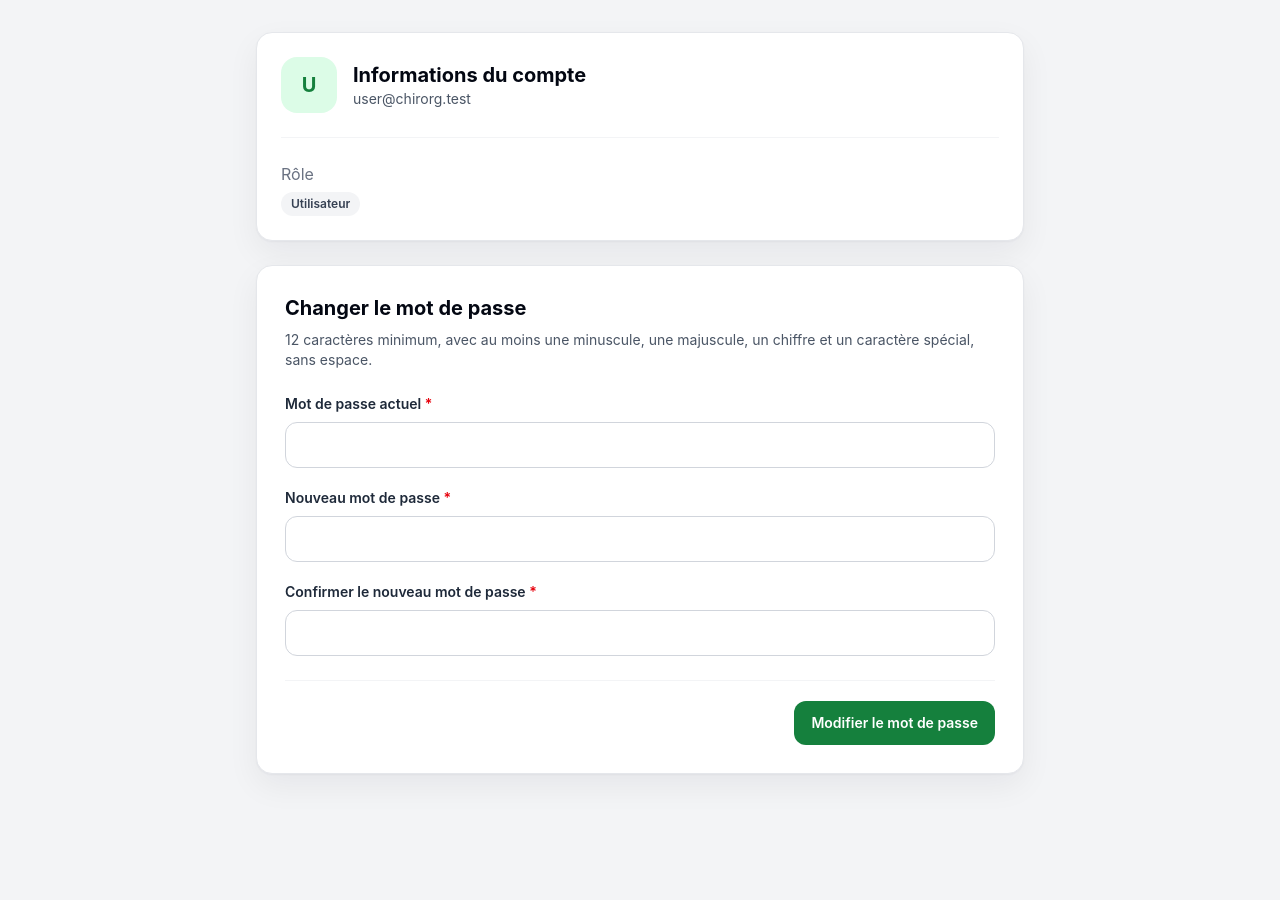
Test: AccountView › hides the user id and changes a password matching the policy
The width and height of the screenshot is (1280, 900).
Check: the text "Identifiant" is not shown
Type "password" into the password field labelled "Mot de passe actuel *" at (640, 445), box [285, 422, 995, 468]
Type "trop-faible" into the password field labelled "Nouveau mot de passe *" at (640, 539), box [285, 516, 995, 562]
Type "trop-faible" into the password field labelled "Confirmer le nouveau mot de passe *" at (640, 633), box [285, 610, 995, 656]
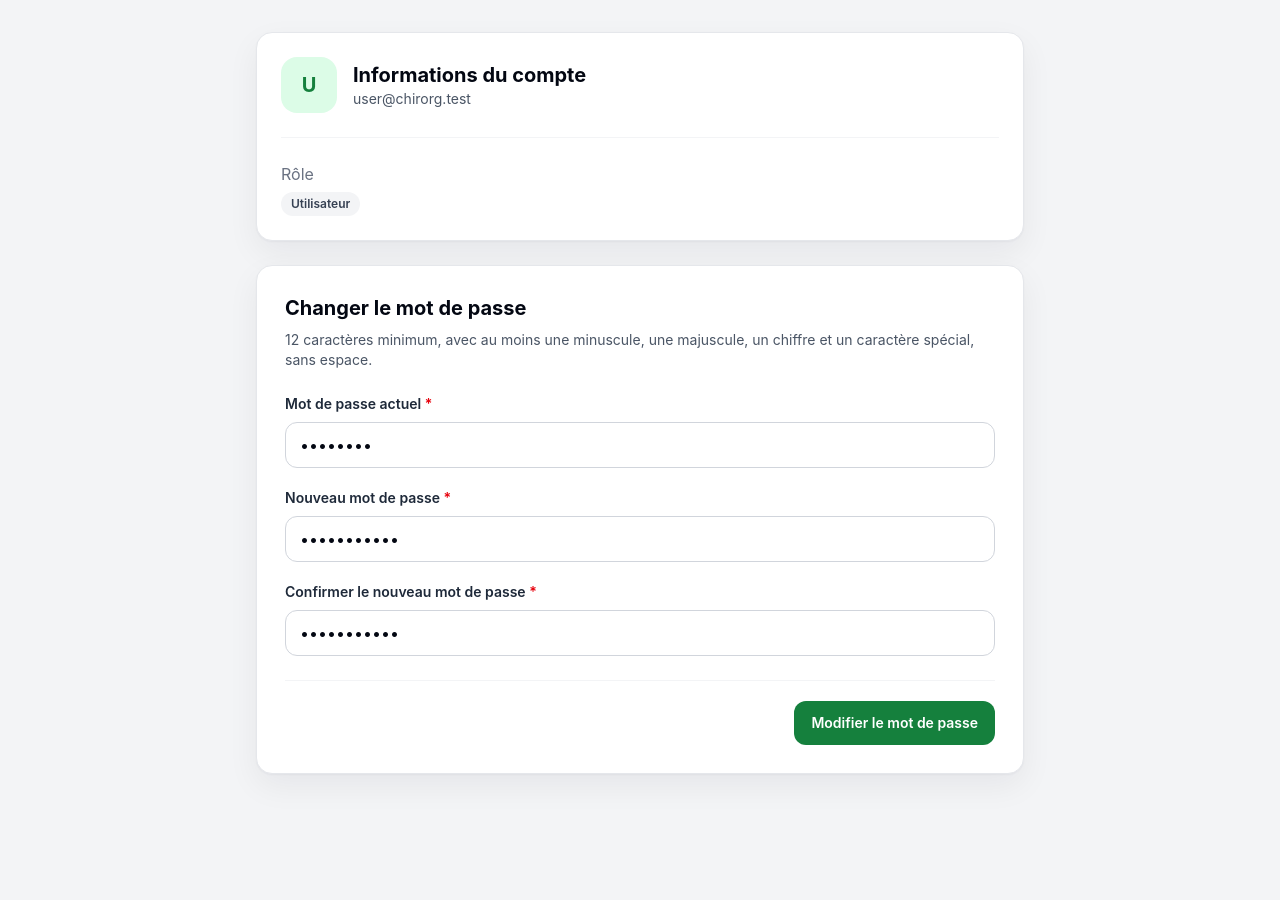
Submit the form, box [256, 265, 1024, 774]
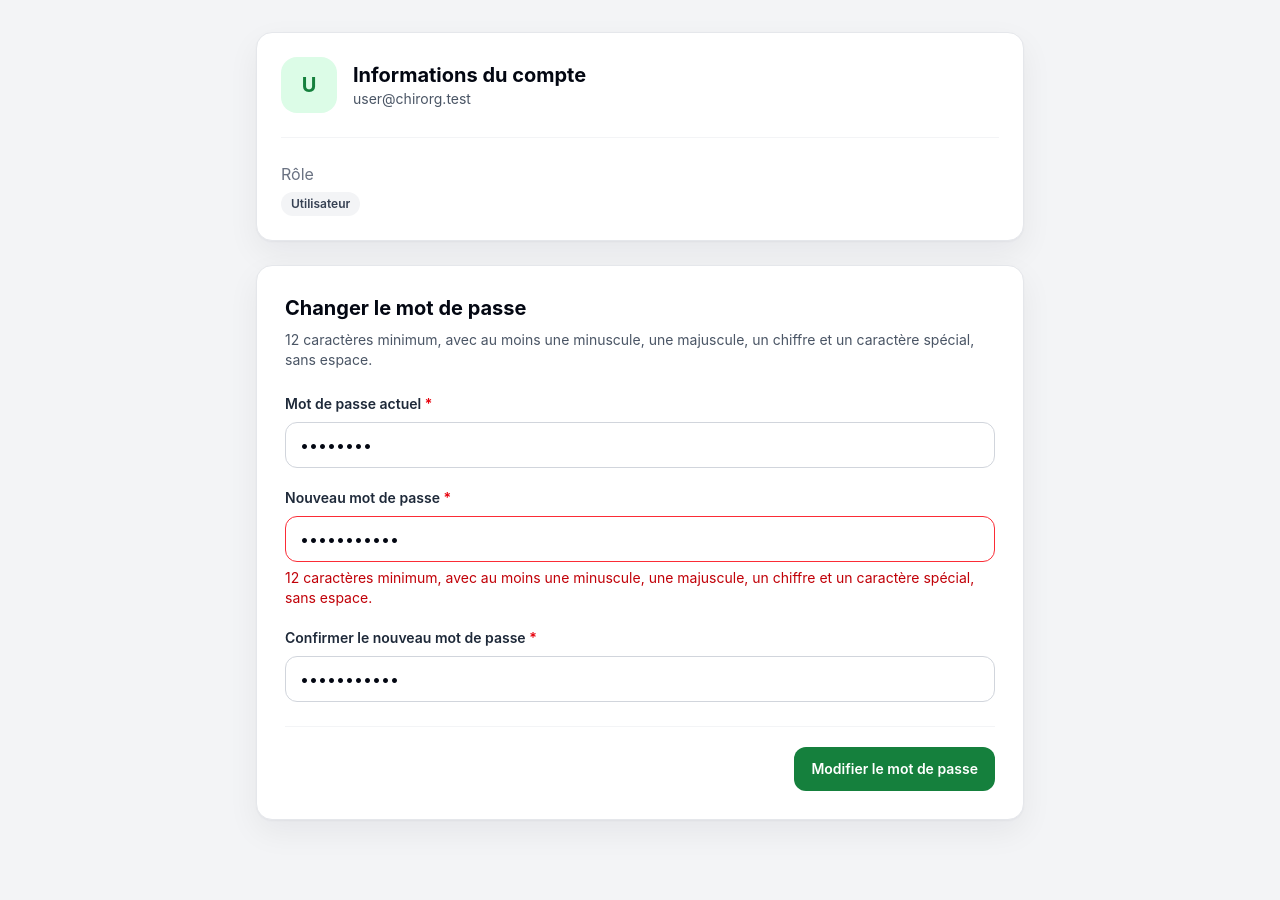
Check: the text "12 caractères minimum" is shown, box [285, 331, 974, 368]
Type "NouveauMotDePasse1!" into the password field labelled "Nouveau mot de passe *" at (640, 539), box [285, 516, 995, 562]
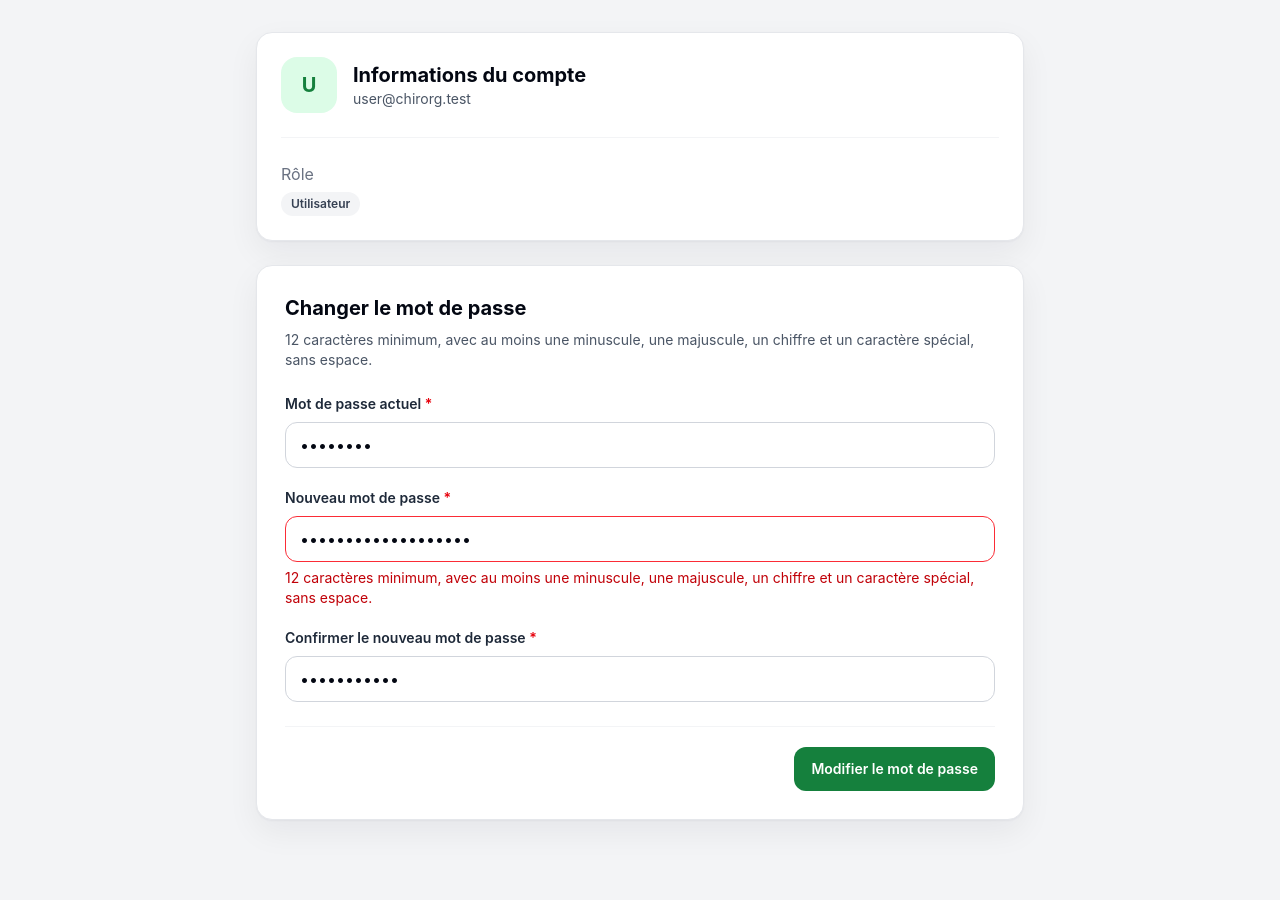
Type "NouveauMotDePasse1!" into the password field labelled "Confirmer le nouveau mot de passe *" at (640, 679), box [285, 656, 995, 702]
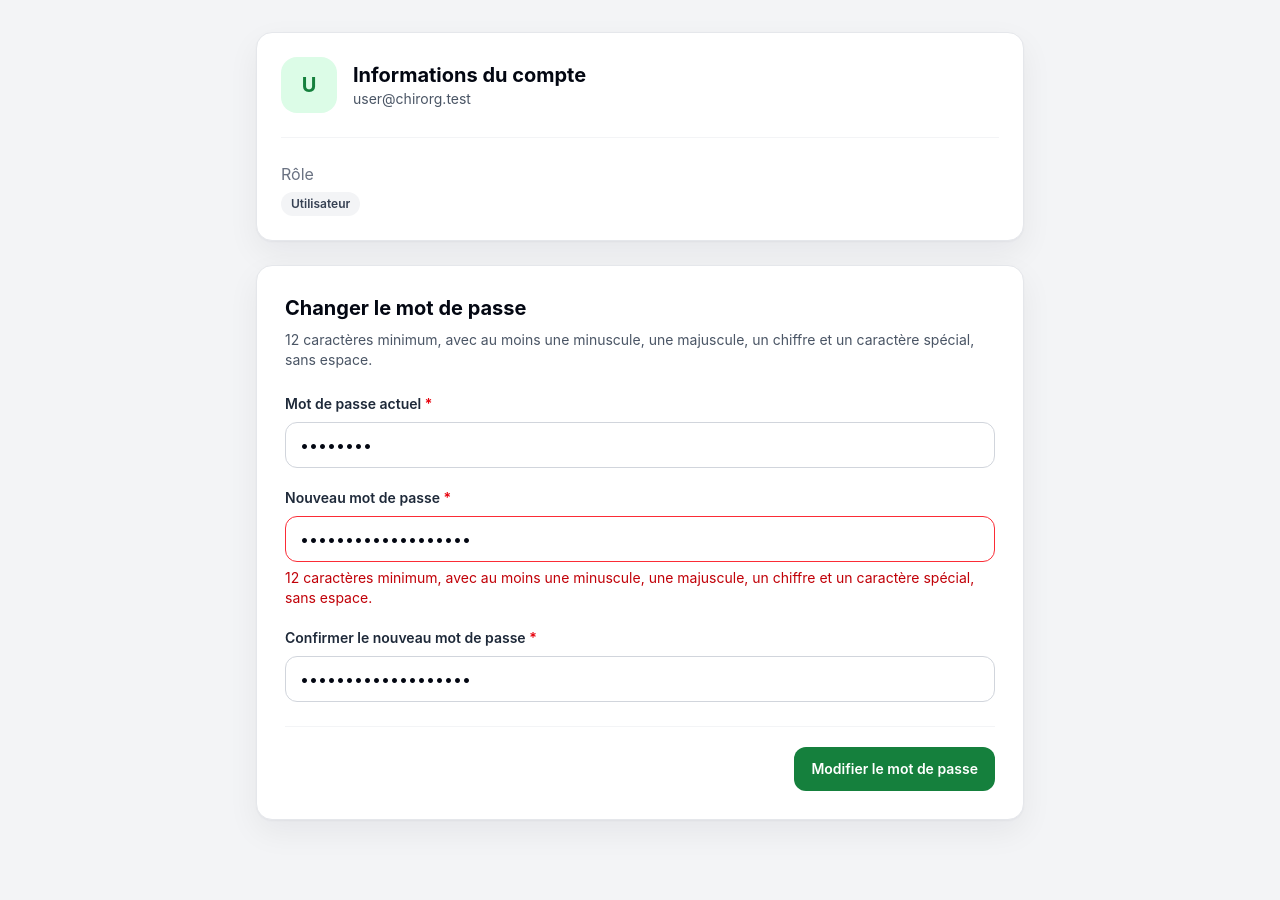
Submit the form, box [256, 265, 1024, 820]
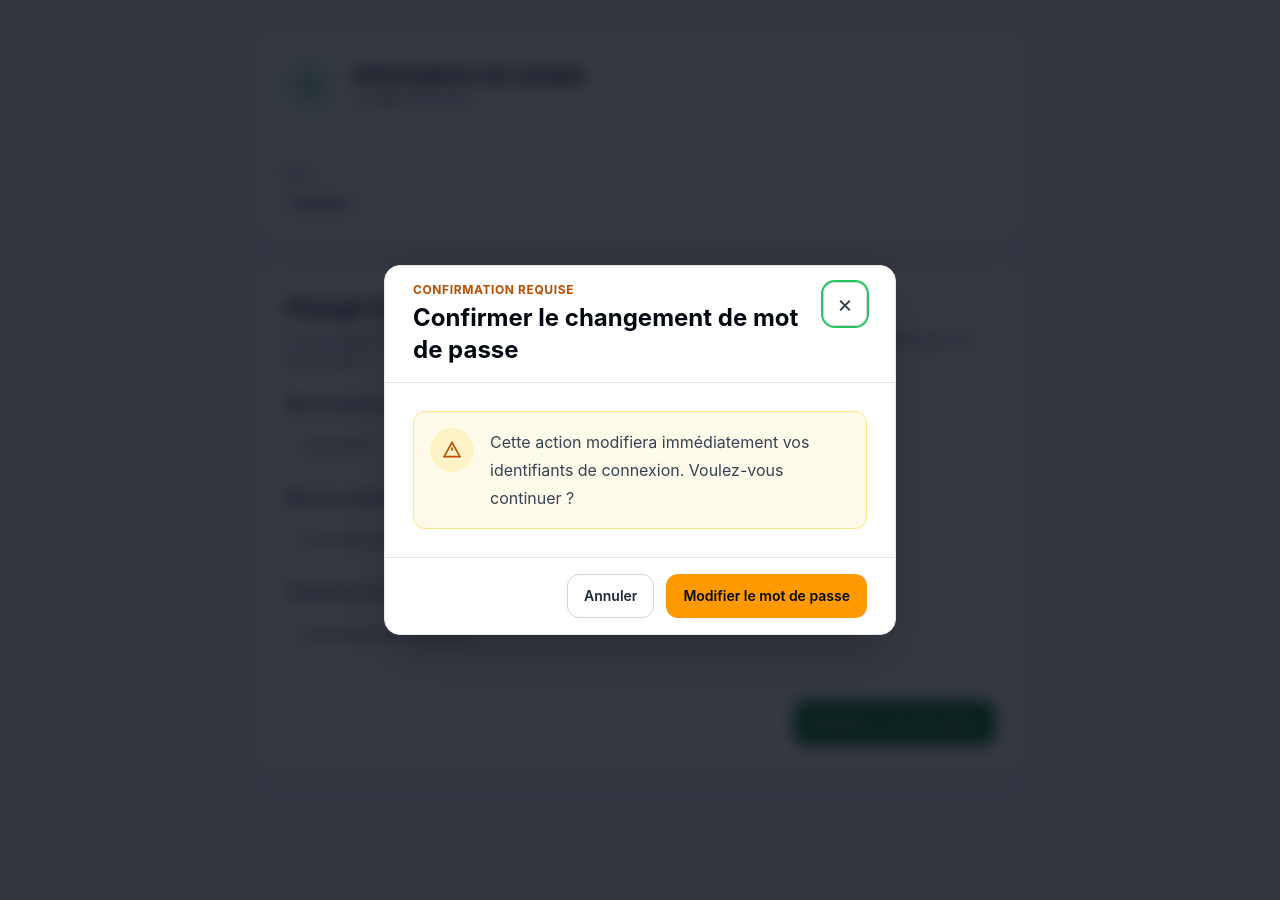
Check: the dialog shows "Confirmer le changement de mot de passe", box [413, 303, 798, 364]
Click the button "Modifier le mot de passe" at (767, 596), box [666, 574, 867, 618]
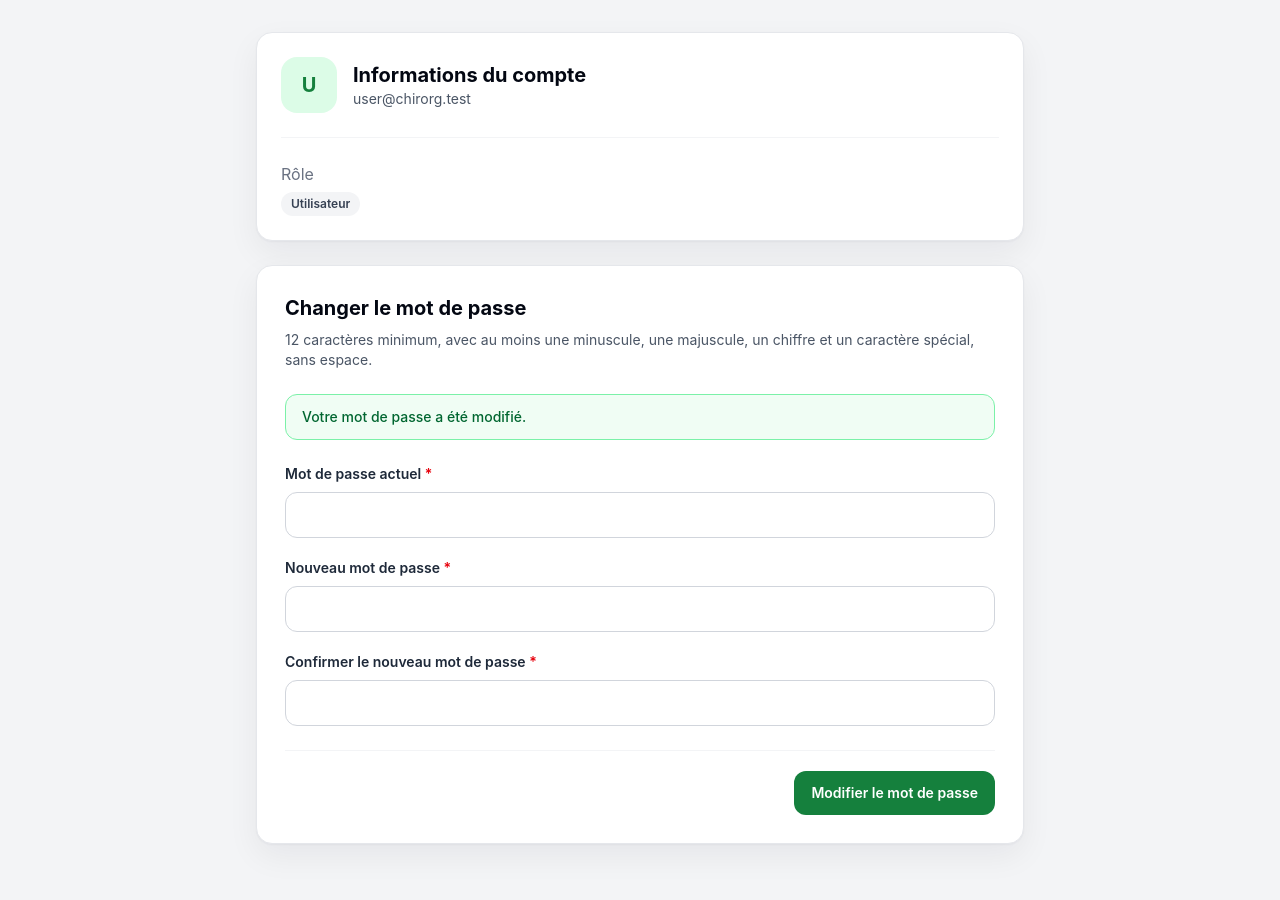
Check: the text "Votre mot de passe a été modifié." is shown, box [285, 394, 995, 440]
